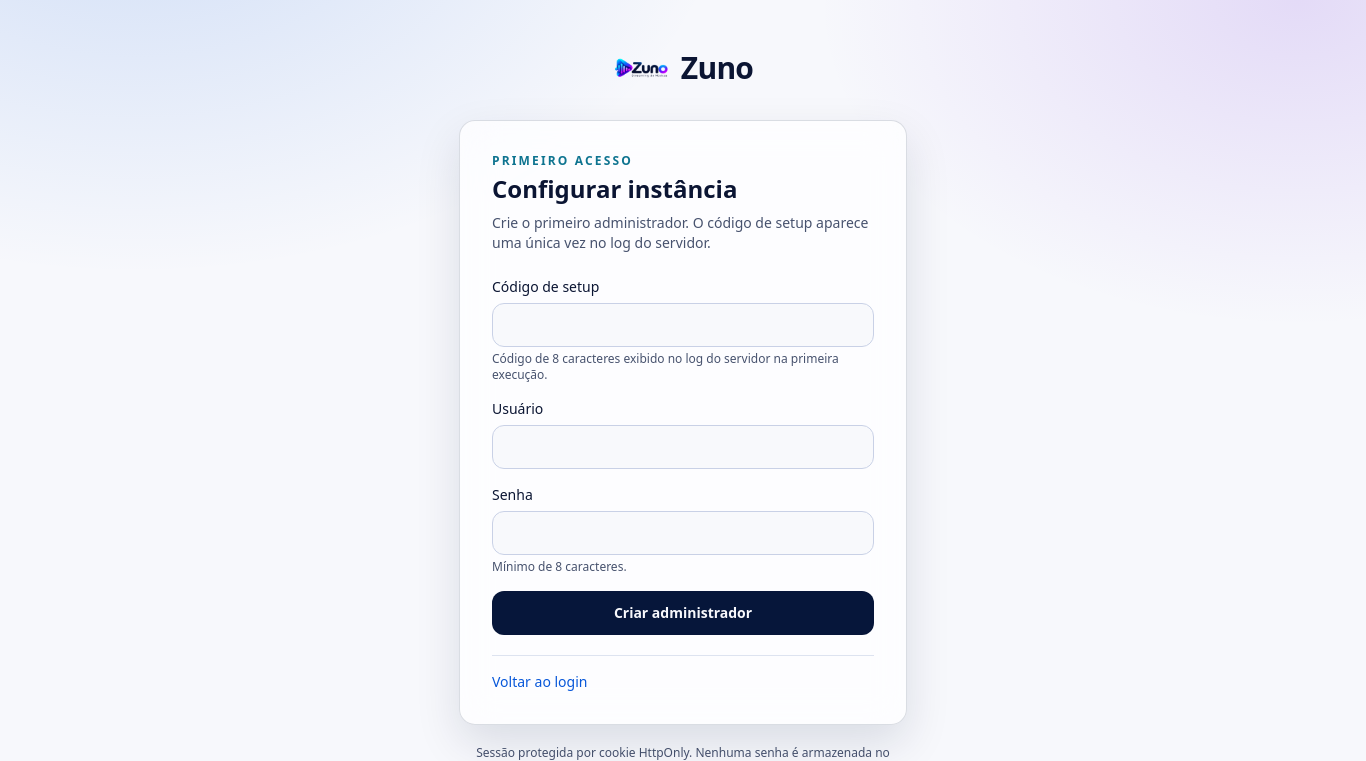
fluxo de sessão › mostra setup quando a instância exige configuração e entra após reivindicar
Check: the heading "Configurar instância" is shown, box 492,172 -> 737,205
Type "ABC12345" into the field labelled "Código de setup" at (683, 325), box 492,303 -> 874,347
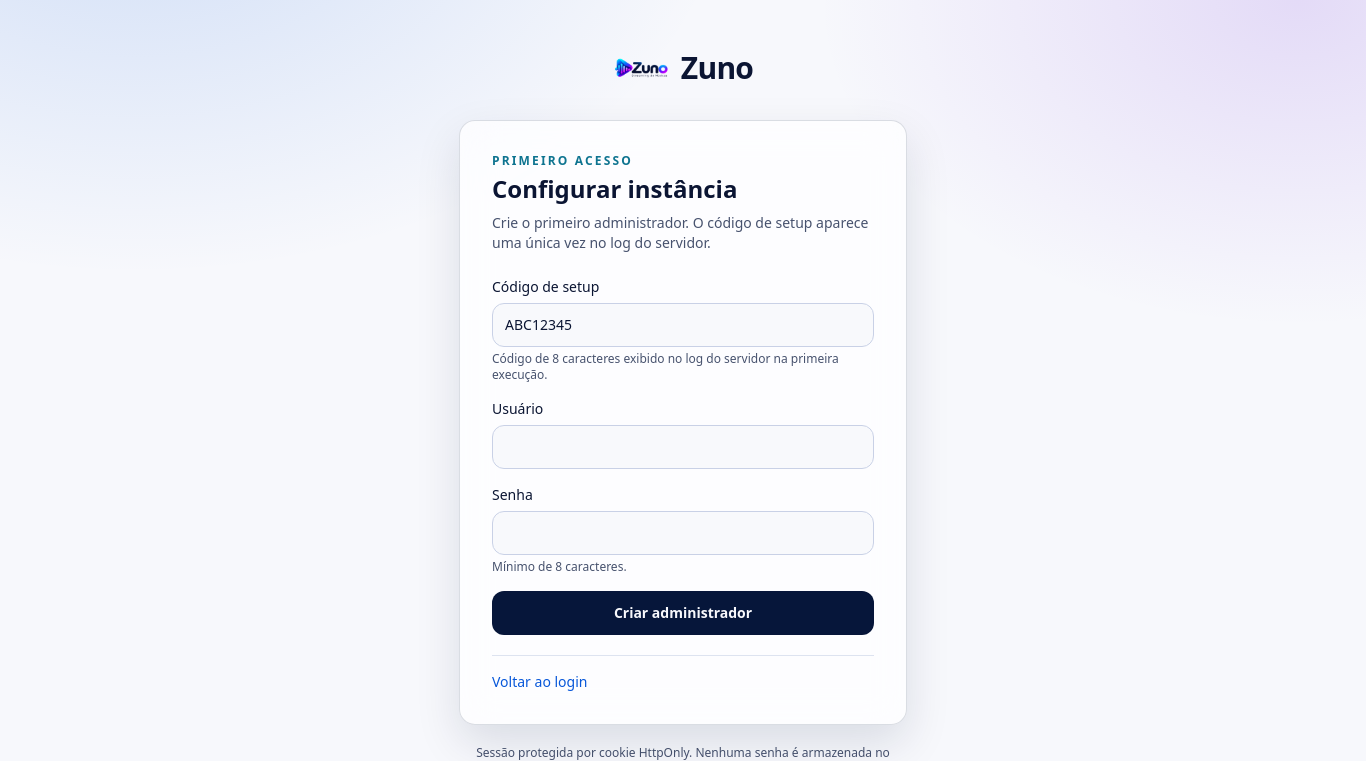
Type "admin" into the field labelled "Usuário" at (683, 447), box 492,425 -> 874,469
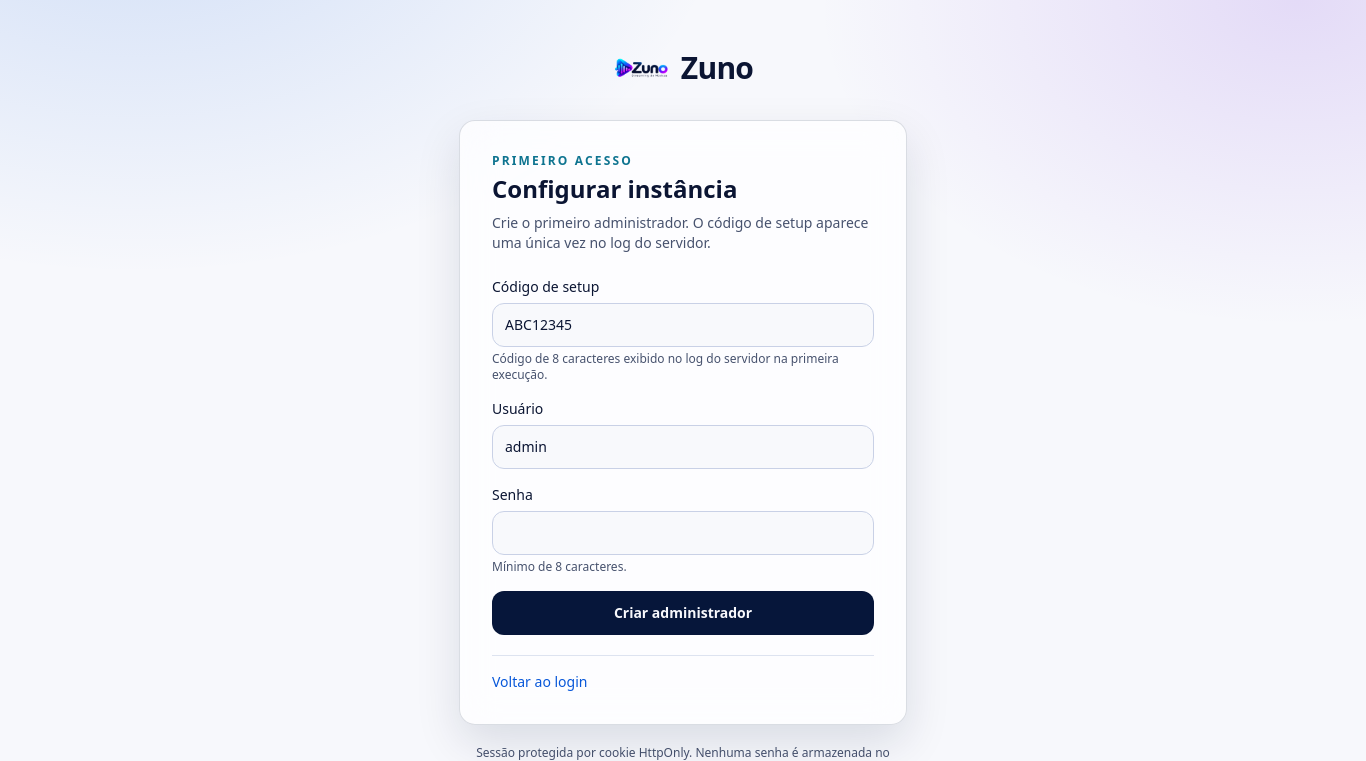
Type "segredo123" into the password field labelled "Senha" at (683, 533), box 492,511 -> 874,555
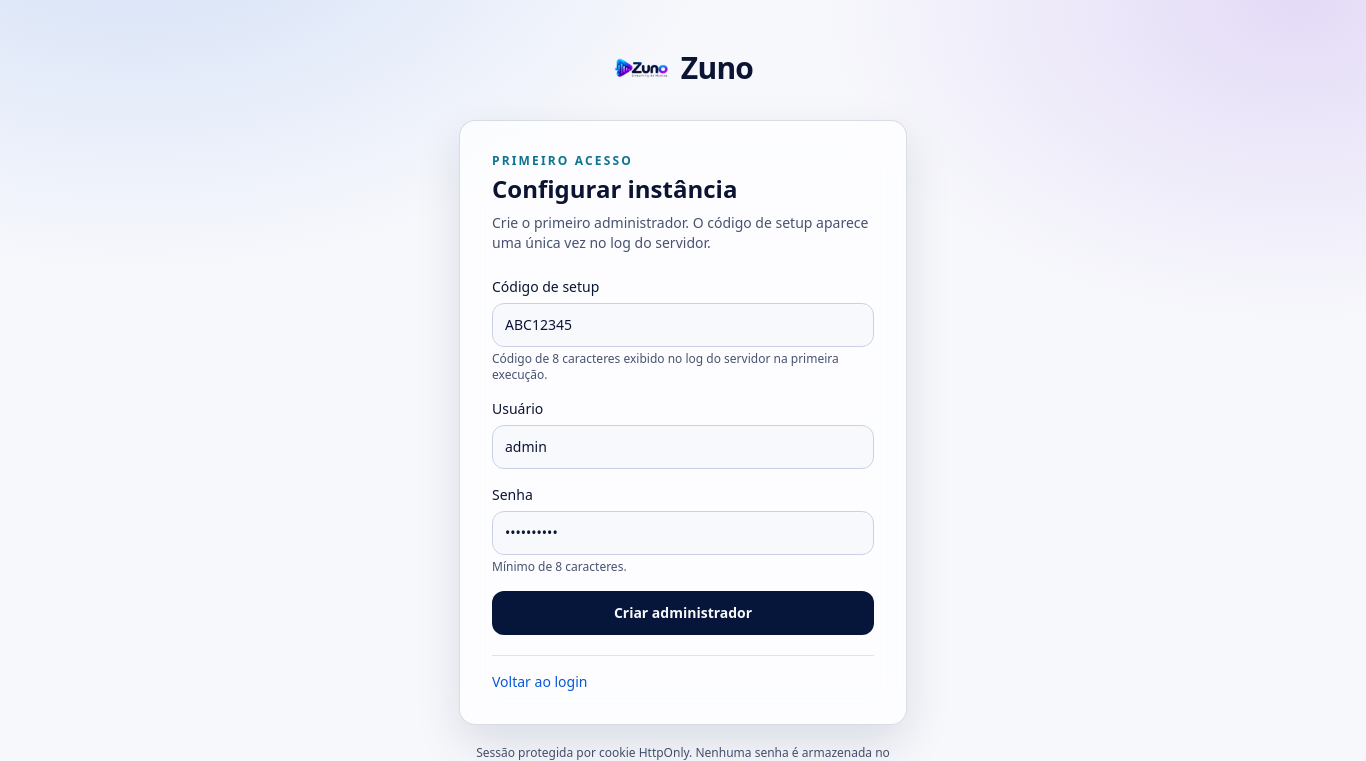
Click the button "Criar administrador" at (683, 613), box 492,591 -> 874,635
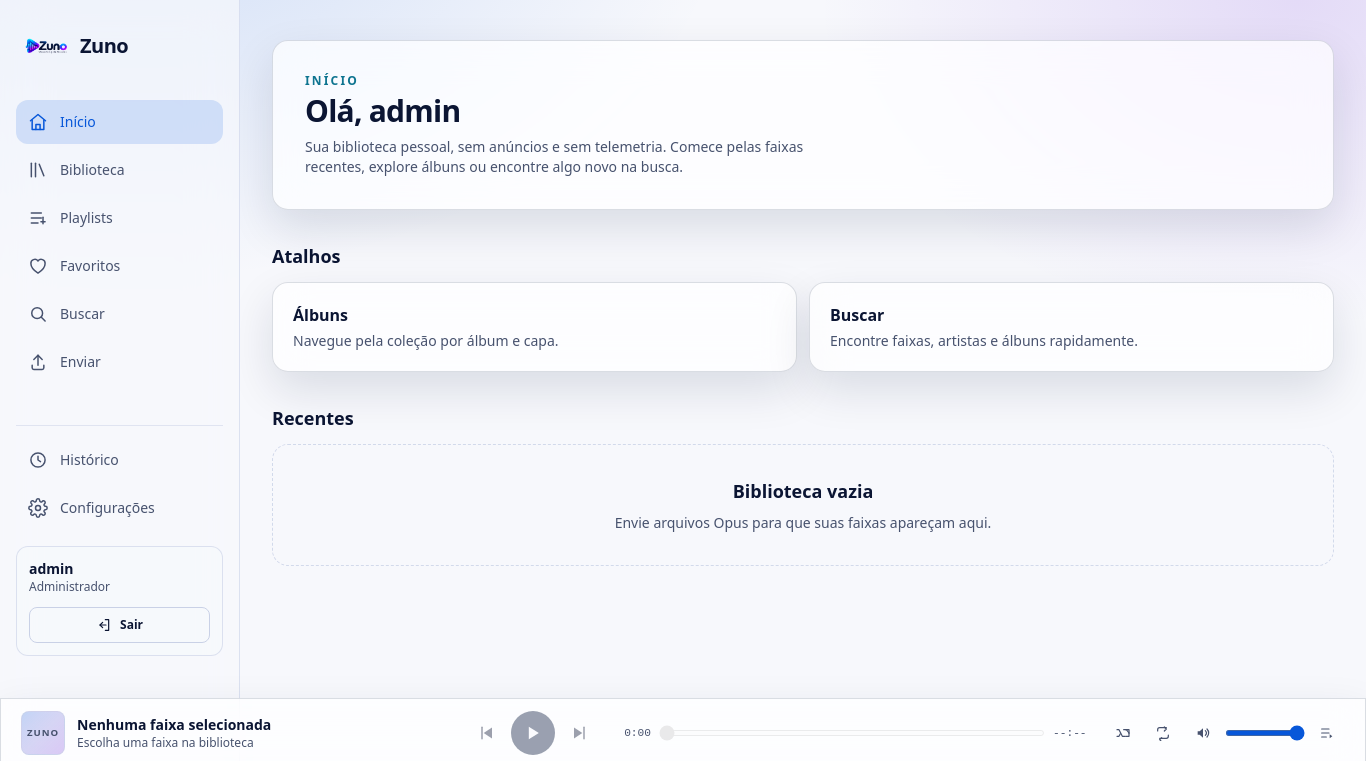
Check: the heading "Olá, admin" is shown, box 305,90 -> 460,131
